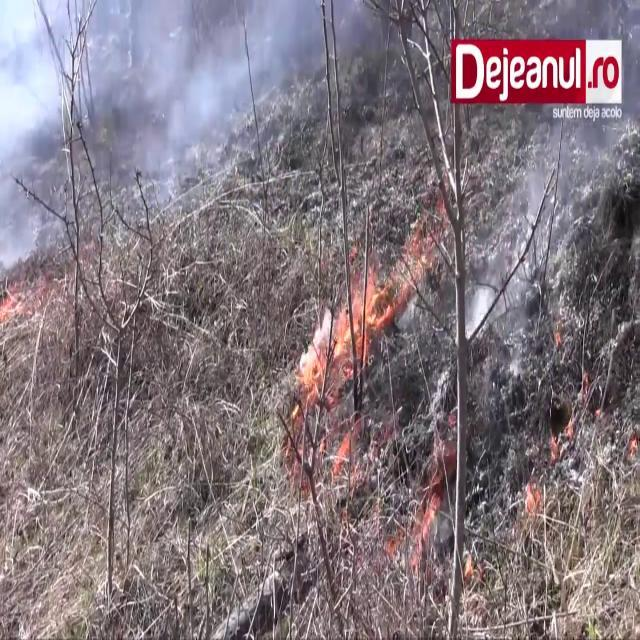Fire: (294, 253, 385, 415)
Smoke: (0, 0, 373, 224), (468, 118, 588, 360)
